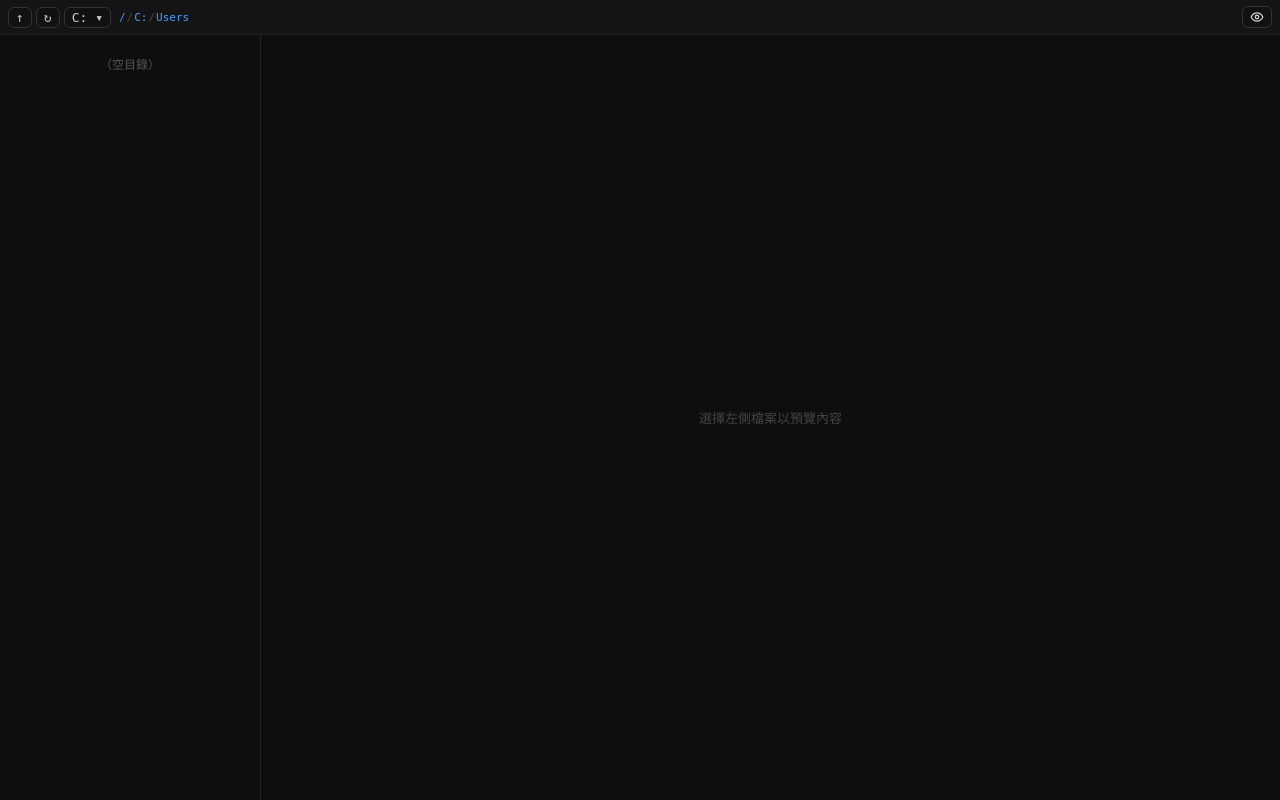
Test: FileExplorer — drive switcher › labels network drives so a slow one is not a surprise
Click the button titled "切換磁碟機" at (87, 17), box 64,6 -> 111,28
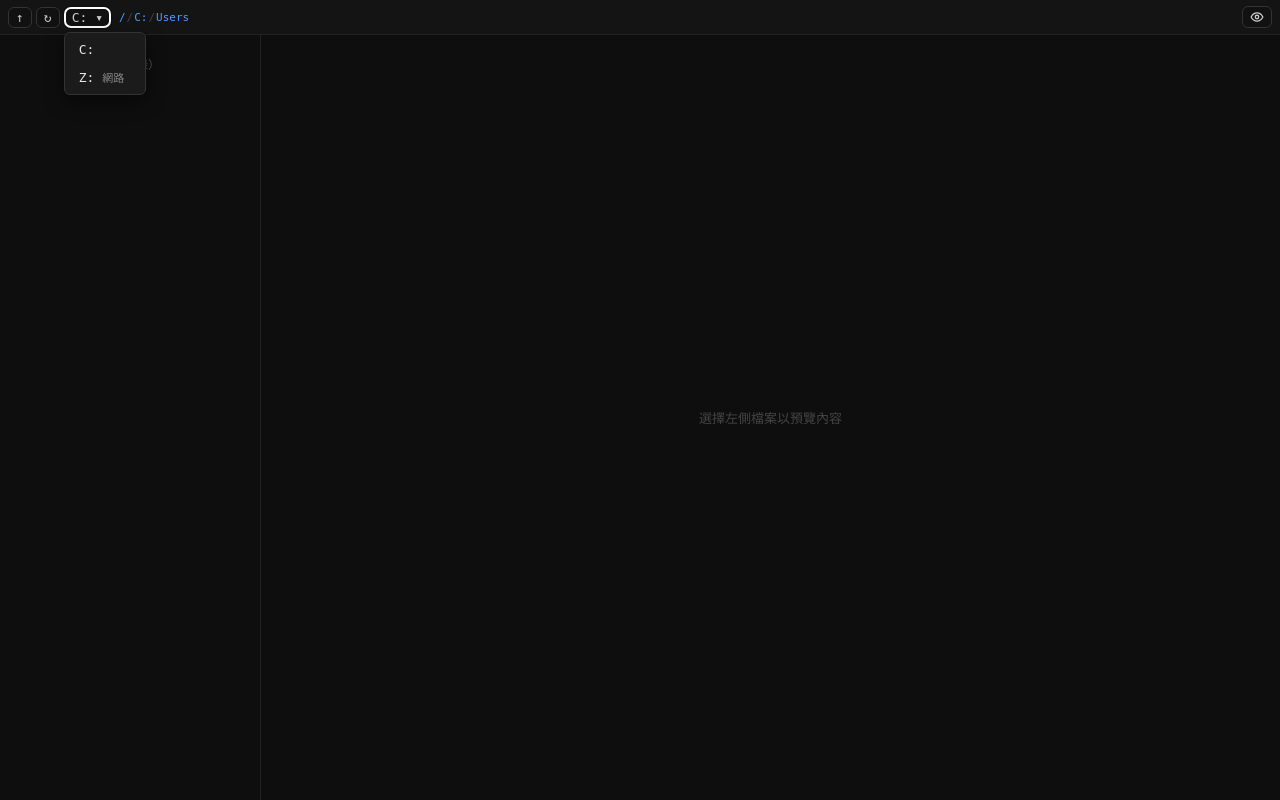
Expected: the button "C:" does not show "網路", 69,36 -> 141,62
Now the button "Z:網路" is shown, box 69,64 -> 141,90
